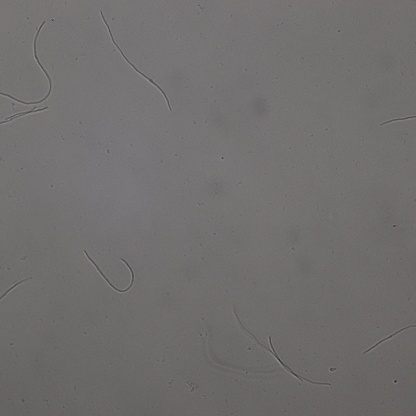Sensitive: (101, 11, 172, 112), (237, 311, 329, 385), (1, 21, 53, 105), (83, 249, 134, 292), (364, 324, 416, 353), (1, 106, 50, 123), (1, 278, 32, 298), (381, 115, 416, 126)
